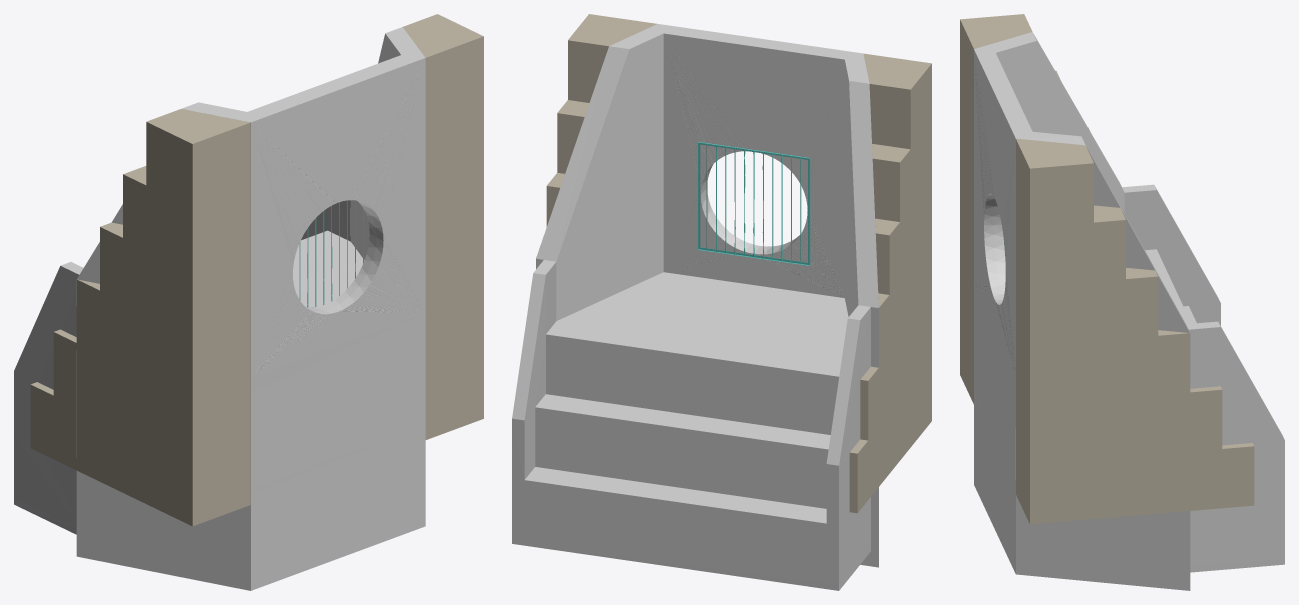
The model's file is 500125-CSSP001-780-XX-MD-ST-000221.glb.
3 views of the same model, side by side, from view 1: azimuth 30°, elevation 25°; view 2: azimuth 150°, elevation 25°; view 3: azimuth 270°, elevation 25° (orthographic). The views are drawn at different scales.
Parts seen in each view (by area): view 1: 500125-CSSP001-780-XX-MD-ST-000221#OTR001, 500125-CSSP001-780-XX-MD-ST-000221#GAV001, 500125-CSSP001-780-XX-MD-ST-000221#SUM001; view 2: 500125-CSSP001-780-XX-MD-ST-000221#OTR001, 500125-CSSP001-780-XX-MD-ST-000221#GAV001, 500125-CSSP001-780-XX-MD-ST-000221#SUM001; view 3: 500125-CSSP001-780-XX-MD-ST-000221#GAV001, 500125-CSSP001-780-XX-MD-ST-000221#OTR001.
Boxes of the visible parts, x1=… form: 500125-CSSP001-780-XX-MD-ST-000221#OTR001: x1=14, y1=27, x2=425, y2=590; 500125-CSSP001-780-XX-MD-ST-000221#GAV001: x1=30, y1=14, x2=483, y2=526; 500125-CSSP001-780-XX-MD-ST-000221#SUM001: x1=299, y1=200, x2=363, y2=307; 500125-CSSP001-780-XX-MD-ST-000221#OTR001: x1=512, y1=24, x2=878, y2=590; 500125-CSSP001-780-XX-MD-ST-000221#GAV001: x1=546, y1=14, x2=931, y2=513; 500125-CSSP001-780-XX-MD-ST-000221#SUM001: x1=697, y1=142, x2=810, y2=265; 500125-CSSP001-780-XX-MD-ST-000221#GAV001: x1=960, y1=14, x2=1254, y2=524; 500125-CSSP001-780-XX-MD-ST-000221#OTR001: x1=974, y1=32, x2=1284, y2=590.
Bounding box in the file's own units: 6.08 × 7.35 × 4.97.
